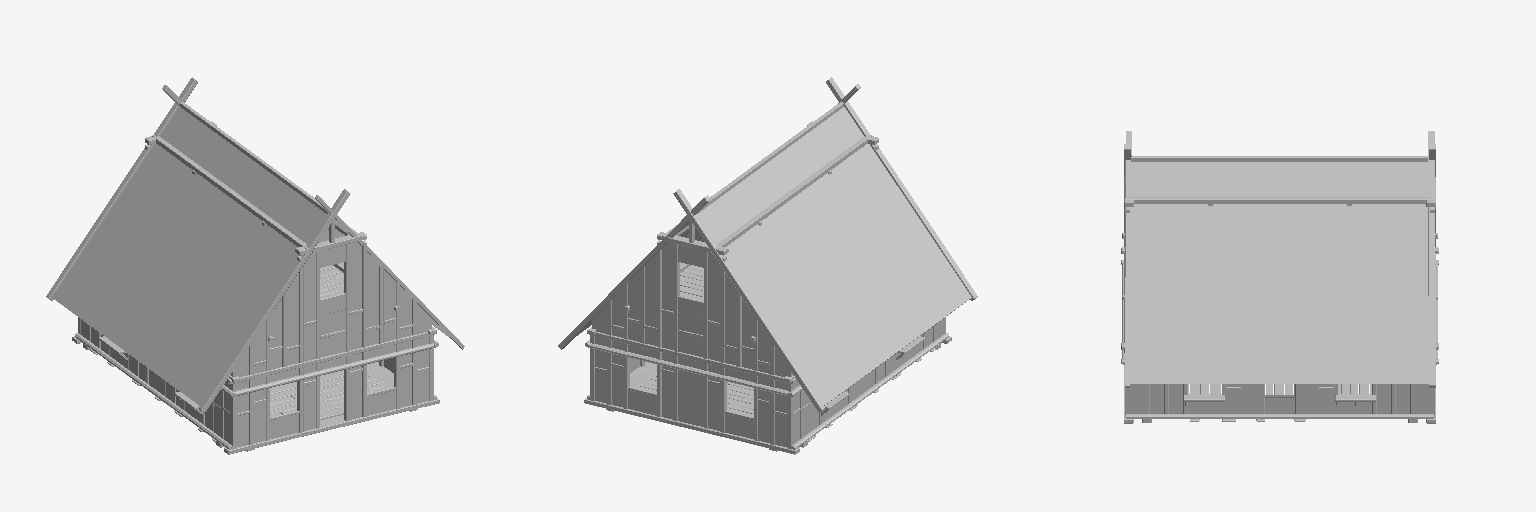
File: tavern.obj
The picture shows the model from 3 angles: view 1: azimuth 30°, elevation 25°; view 2: azimuth 150°, elevation 25°; view 3: azimuth 270°, elevation 25°; orthographic projection.
Parts seen in each view (by area): view 1: Cube.005, Cube.010; view 2: Cube.005, Cube.010; view 3: Cube.005, Cube.010.
Part boxes in pixels (x1,y1,x2,y2): Cube.005: (52, 107, 450, 446); Cube.010: (46, 77, 464, 454); Cube.005: (577, 107, 971, 446); Cube.010: (558, 77, 977, 454); Cube.005: (1130, 162, 1429, 413); Cube.010: (1121, 131, 1438, 423).
Bounding box in the file's own units: 15.9 × 13.67 × 16.53.